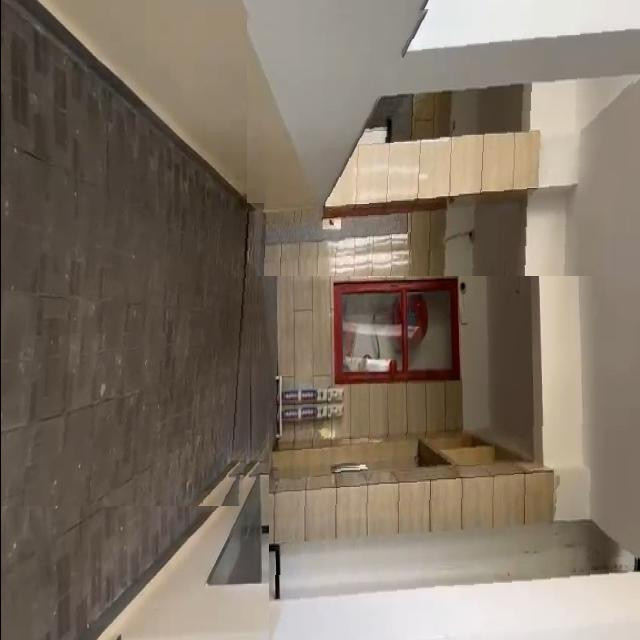floor: (0, 203, 263, 506)
wall: (246, 0, 637, 276), (268, 387, 640, 640)
